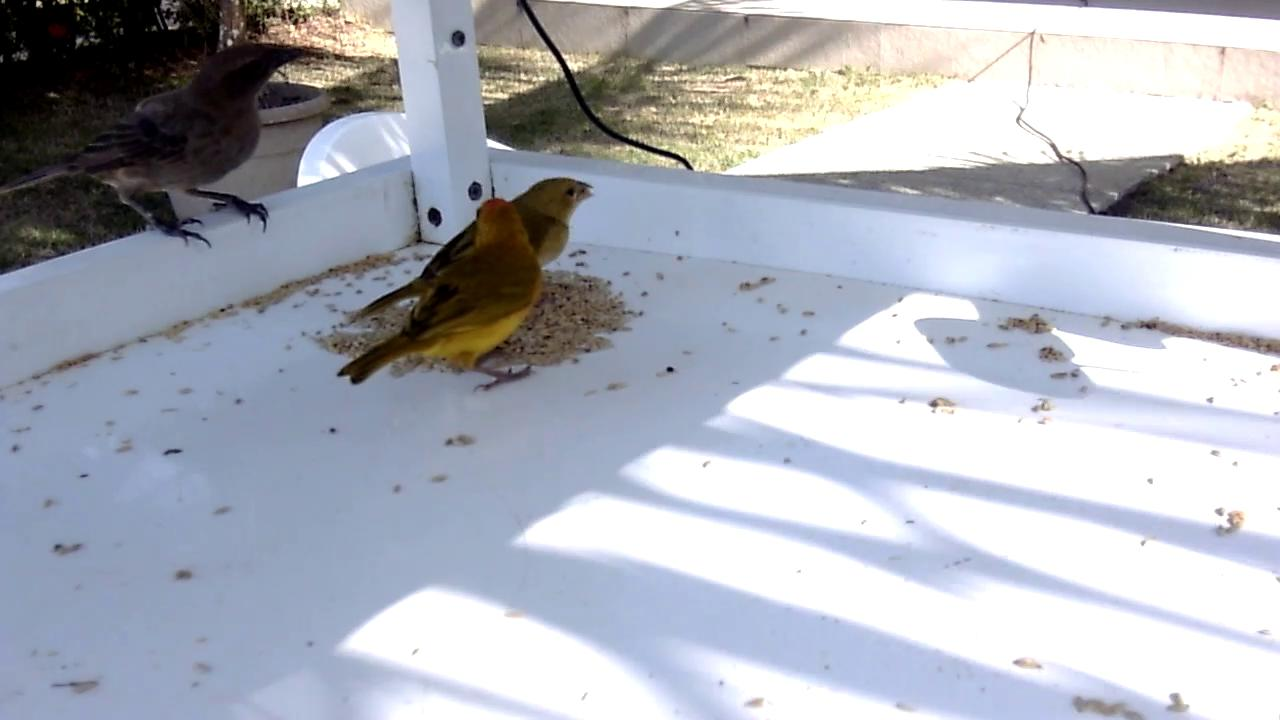canario_do_amazonas: (336, 196, 547, 398), (358, 175, 599, 322)
chupim: (1, 41, 315, 253)
